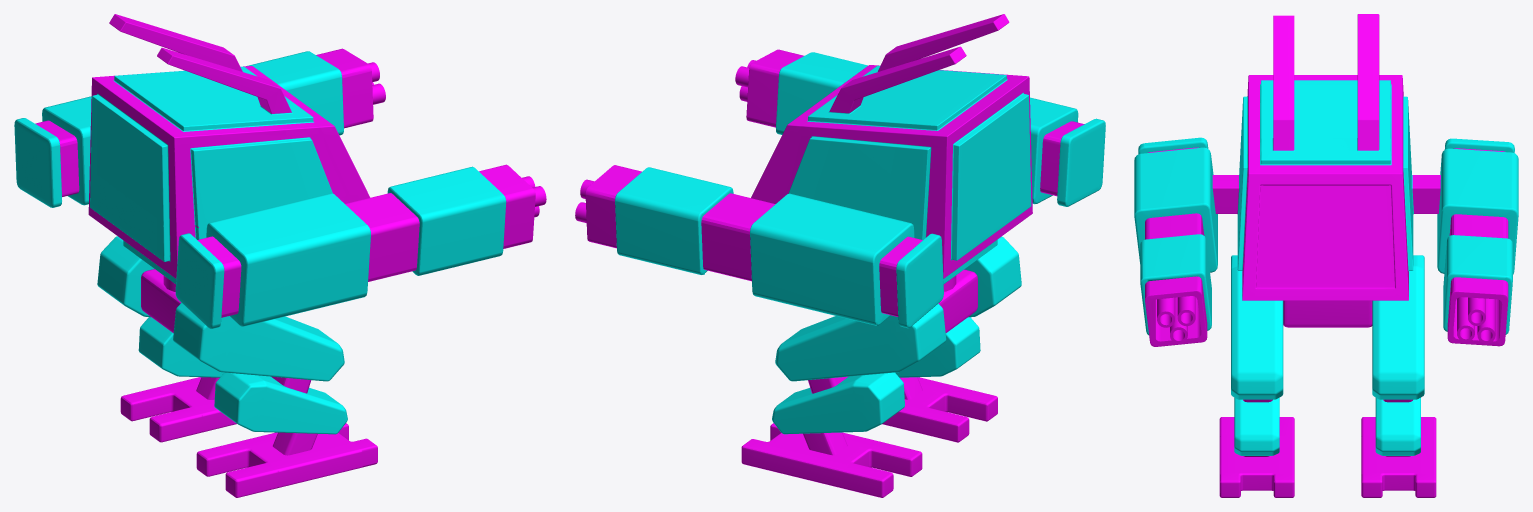
The model's file is Mech_V5.fbx.
The picture shows the model from 3 angles, left to right: view 1: azimuth 30°, elevation 25°; view 2: azimuth 150°, elevation 25°; view 3: azimuth 270°, elevation 25°; orthographic projection. The views are drawn at different scales.
Parts seen in each view (by area): view 1: Head, Right_arm, Left_arm, Right_upperLeg, Right_foot, Right_lowerLeg, Left_foot, Left_upperLeg, Left_lowerLeg, Crotch, Right_lowerJoint; view 2: Head, Left_arm, Right_arm, Left_upperLeg, Left_foot, Left_lowerLeg, Right_foot, Right_upperLeg, Right_lowerLeg, Crotch, Left_lowerJoint; view 3: Head, Right_arm, Left_arm, Left_upperLeg, Right_upperLeg, Right_foot, Left_foot, Right_lowerLeg, Left_lowerLeg, Crotch.
Boxes of the visible parts, x1,y1,x2,y2 form: Head: (88, 14, 370, 283); Right_arm: (175, 164, 546, 329); Left_arm: (14, 48, 385, 207); Right_upperLeg: (173, 303, 344, 381); Right_foot: (196, 423, 377, 497); Right_lowerLeg: (214, 372, 347, 434); Left_foot: (120, 377, 236, 442); Left_upperLeg: (97, 236, 154, 317); Left_lowerLeg: (138, 317, 224, 377); Crotch: (141, 269, 181, 332); Right_lowerJoint: (273, 432, 317, 455); Head: (751, 14, 1032, 283); Left_arm: (575, 165, 943, 328); Right_arm: (735, 49, 1105, 206); Left_upperLeg: (775, 303, 946, 381); Left_foot: (741, 423, 922, 497); Left_lowerLeg: (772, 372, 904, 434); Right_foot: (882, 377, 997, 442); Right_upperLeg: (964, 236, 1021, 317); Right_lowerLeg: (895, 317, 980, 377); Crotch: (938, 269, 977, 332); Left_lowerJoint: (803, 432, 847, 455); Head: (1212, 14, 1440, 300); Right_arm: (1134, 137, 1217, 346); Left_arm: (1437, 138, 1518, 346); Left_upperLeg: (1372, 255, 1424, 399); Right_upperLeg: (1231, 255, 1283, 399); Right_foot: (1219, 417, 1294, 497); Left_foot: (1361, 417, 1436, 497); Right_lowerLeg: (1234, 397, 1279, 455); Left_lowerLeg: (1375, 397, 1420, 455); Crotch: (1283, 300, 1372, 327).
Size of the model in its own units: 1.85 by 2.24 by 1.93.
